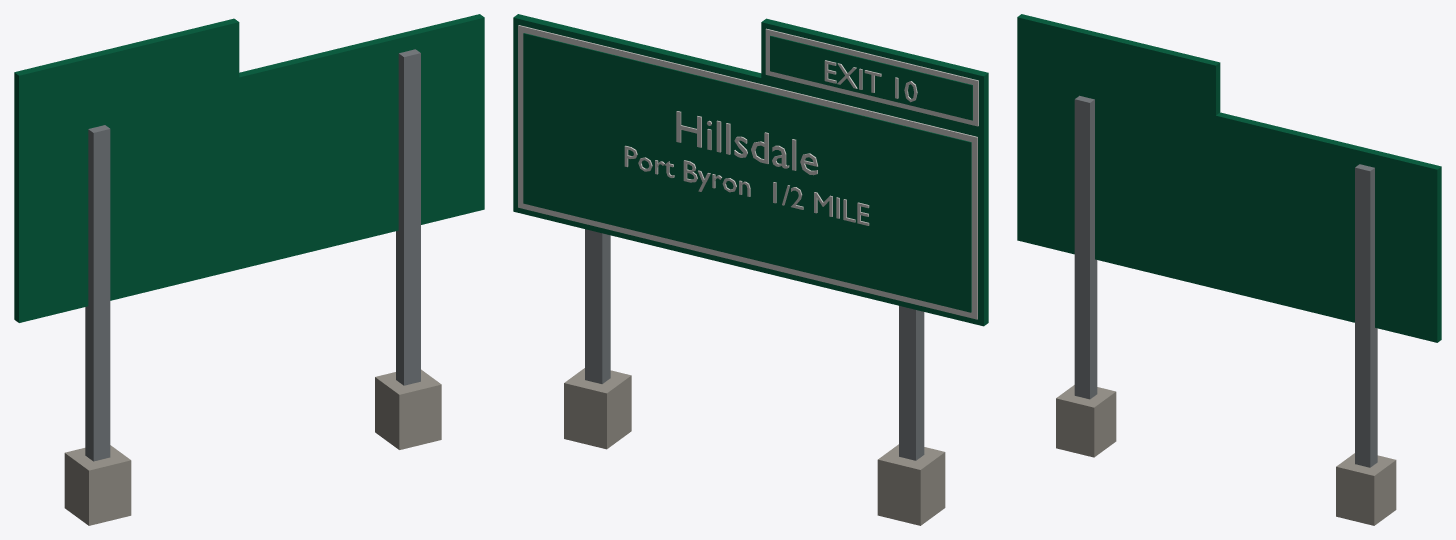
Rendered from exit10w.glb.
3 renders of one model, left to right at view 1: azimuth 30°, elevation 25°; view 2: azimuth 150°, elevation 25°; view 3: azimuth 330°, elevation 25°, orthographic. The views are drawn at different scales.
Parts seen in each view (by area): view 1: exit10w_lod0; view 2: exit10w_lod0; view 3: exit10w_lod0.
Boxes of the visible parts, x1,y1,x2,y2 form: exit10w_lod0: [14, 14, 484, 525]; exit10w_lod0: [513, 14, 988, 525]; exit10w_lod0: [1017, 14, 1441, 525].
Size of what is drawn, in the model's own units: 6.6 by 6.15 by 0.6.
